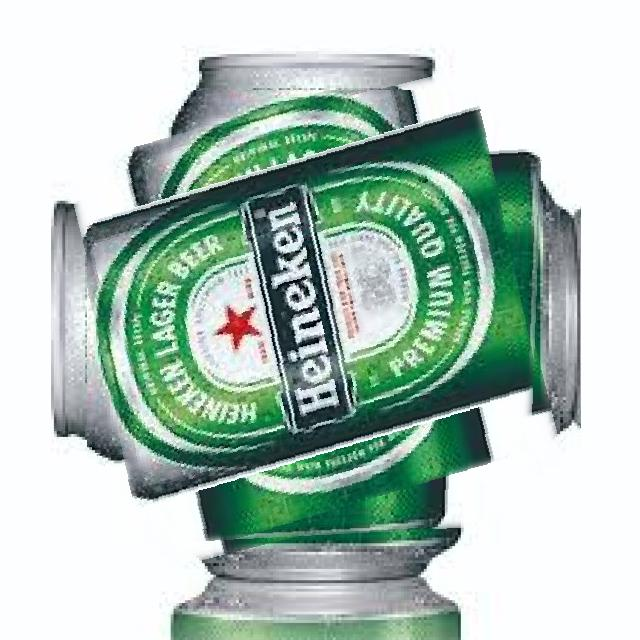recyclable: (87, 90, 545, 548)
